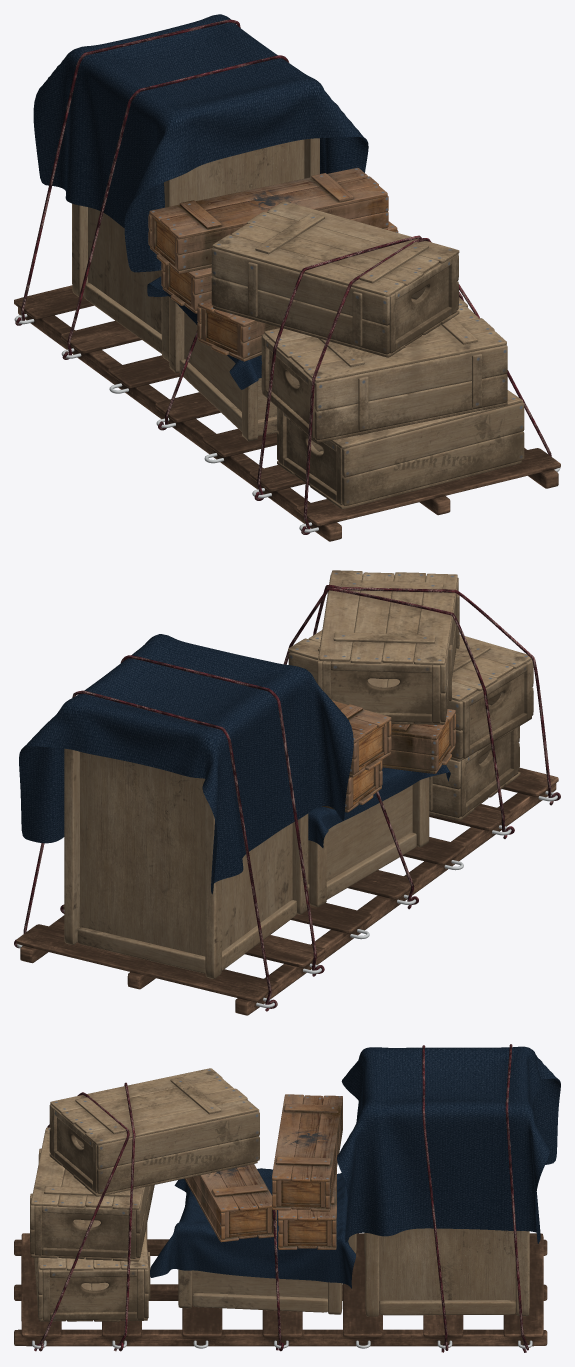
File: wood__boxes_strapped_on_palet.glb
The picture shows the model from 3 angles, top to bottom: view 1: azimuth 30°, elevation 25°; view 2: azimuth 150°, elevation 25°; view 3: azimuth 270°, elevation 25°; orthographic projection. The views are drawn at different scales.
Parts seen in each view (by area): view 1: Plane.003, Cube.005, Cube.006, Cube.002, Cube.004, Plane.001, Cube.003, Plane, Cube.008, Cube.007, BezierCurve, BezierCurve.005 (+3 smaller); view 2: Plane.003, Plane.001, Cube.005, Cube.002, Cube.006, Plane, Cube.004, Cube.008, Cube.003, Plane.002, BezierCurve.005, BezierCurve.002 (+3 smaller); view 3: Plane.003, Cube.005, Cube.002, Plane.001, Cube.006, Plane.002, Cube.003, Cube.004, Plane, Cube.008, Cube.007, BezierCurve.002 (+4 smaller).
Boxes of the visible parts, box(x1,y1,x2,y2) form: Plane.003: box(33, 14, 368, 272); Cube.005: box(211, 201, 459, 357); Cube.006: box(261, 297, 507, 442); Cube.002: box(14, 285, 560, 541); Cube.004: box(277, 390, 524, 509); Plane.001: box(72, 138, 319, 361); Cube.003: box(148, 167, 388, 273); Plane: box(169, 297, 277, 441); Cube.008: box(197, 298, 279, 361); Cube.007: box(161, 221, 398, 313); BezierCurve: box(301, 238, 554, 534); BezierCurve.005: box(15, 19, 240, 325); Plane.003: box(19, 634, 353, 894); Plane.001: box(64, 748, 308, 978); Cube.005: box(317, 570, 459, 724); Cube.002: box(16, 768, 558, 1015); Cube.006: box(288, 630, 533, 761); Plane: box(308, 777, 429, 907); Cube.004: box(429, 726, 520, 820); Cube.008: box(382, 709, 455, 773); Cube.003: box(332, 700, 391, 777); Plane.002: box(308, 765, 450, 847); BezierCurve.005: box(14, 690, 277, 1011); BezierCurve.002: box(60, 655, 324, 976); Plane.003: box(337, 1046, 560, 1243); Cube.005: box(49, 1068, 259, 1196); Cube.002: box(14, 1233, 547, 1346); Plane.001: box(364, 1228, 529, 1316); Cube.006: box(30, 1127, 154, 1261); Plane.002: box(150, 1168, 355, 1288); Cube.003: box(272, 1094, 342, 1211); Cube.004: box(34, 1223, 150, 1321); Plane: box(178, 1233, 356, 1314); Cube.008: box(184, 1164, 276, 1242); Cube.007: box(278, 1169, 336, 1249); BezierCurve.002: box(422, 1045, 448, 1352).
Bounding box in the file's own units: 1.94 × 1.9 × 4.1.
Materials: 8 (8 with a texture image).
